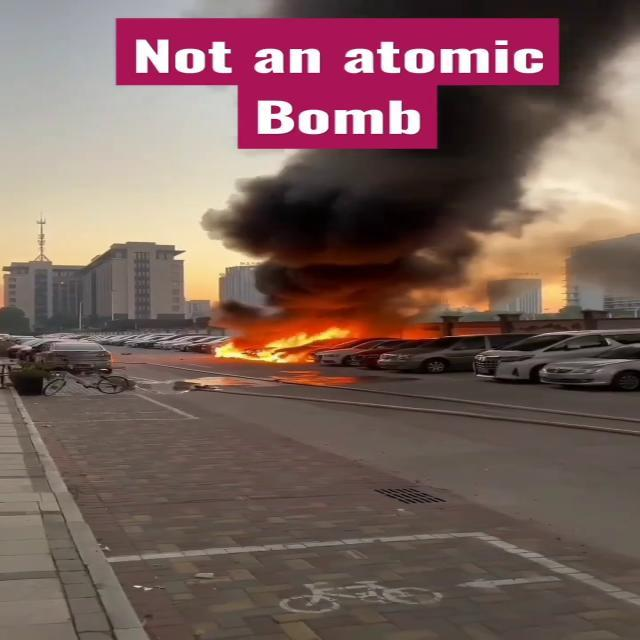Fire: (214, 322, 352, 362)
Smoke: (184, 80, 627, 320)
